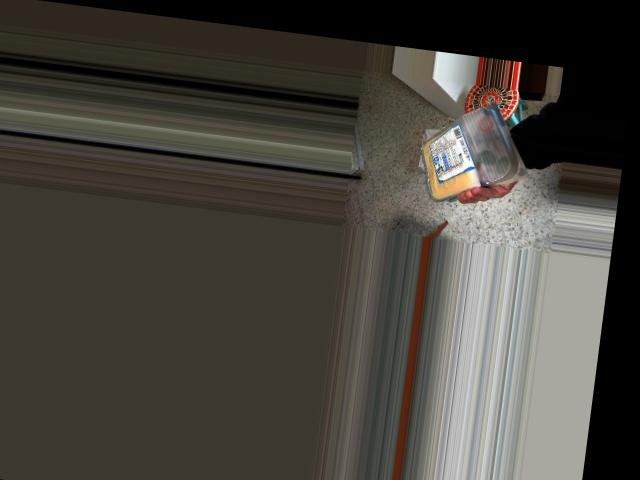cheese: (408, 93, 519, 198)
